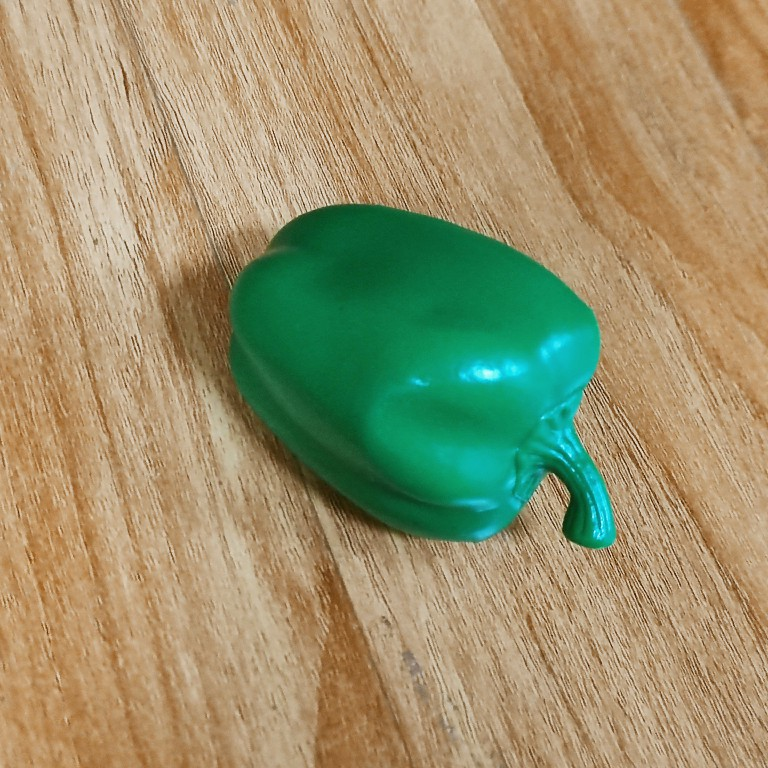fruit_pepper: (216, 196, 630, 557)
